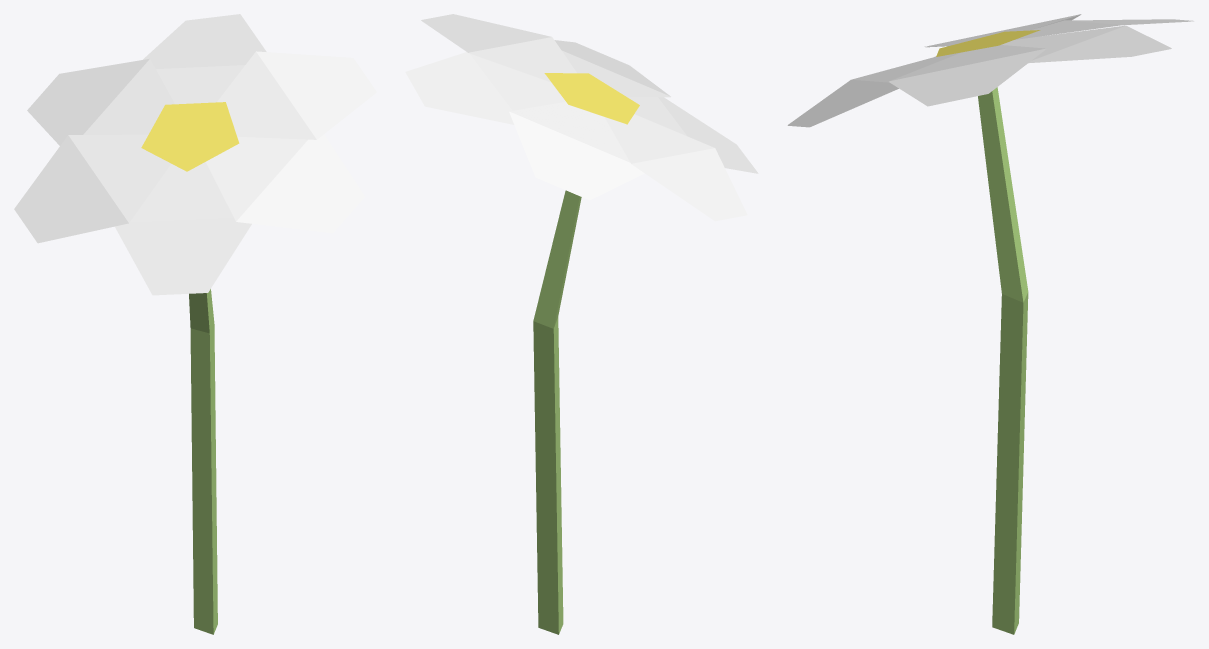
The model's file is Flower_e_TwoS_04.fbx.
3 renders of one model, left to right at view 1: azimuth 30°, elevation 25°; view 2: azimuth 150°, elevation 25°; view 3: azimuth 270°, elevation 25°, orthographic. The views are drawn at different scales.
Visible parts, largest first — view 1: Flower_e_TwoS_04; view 2: Flower_e_TwoS_04; view 3: Flower_e_TwoS_04.
Part boxes in pixels (x1,y1,x2,y2): Flower_e_TwoS_04: [14, 14, 376, 634]; Flower_e_TwoS_04: [405, 14, 758, 634]; Flower_e_TwoS_04: [787, 14, 1193, 634].
Bounding box in the file's own units: 0.197 × 0.3311 × 0.1973.
